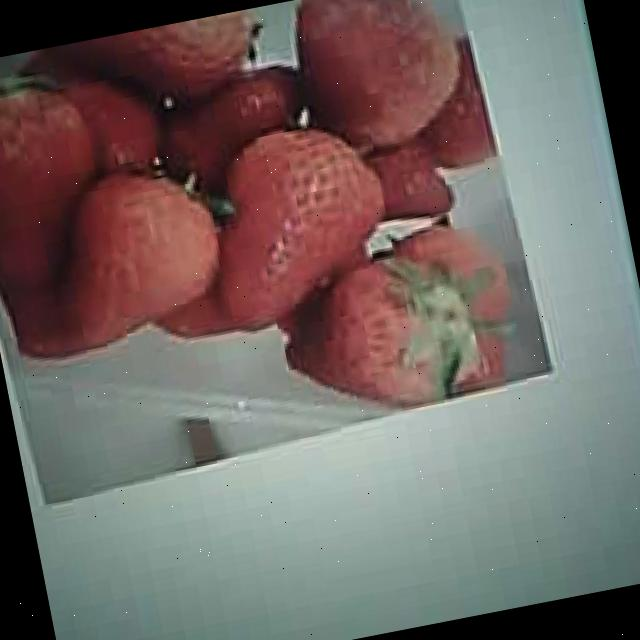strawberry: (197, 118, 400, 332), (50, 158, 228, 348), (277, 250, 468, 425), (0, 76, 110, 284)
